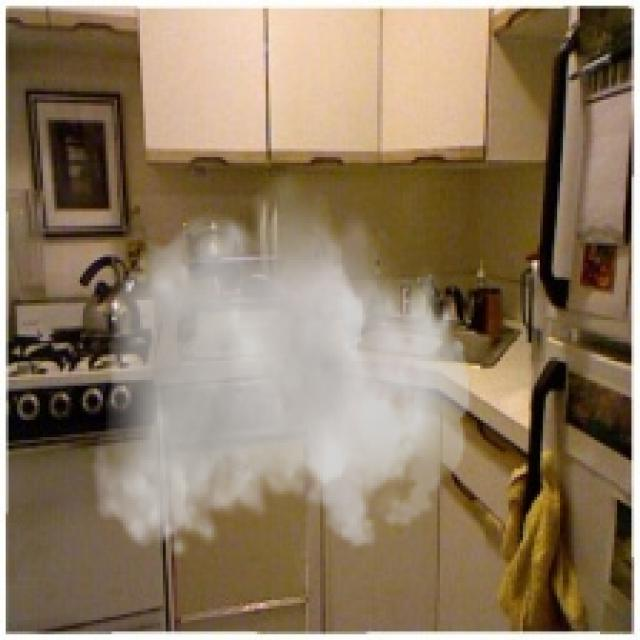smoke: (91, 163, 472, 563)
